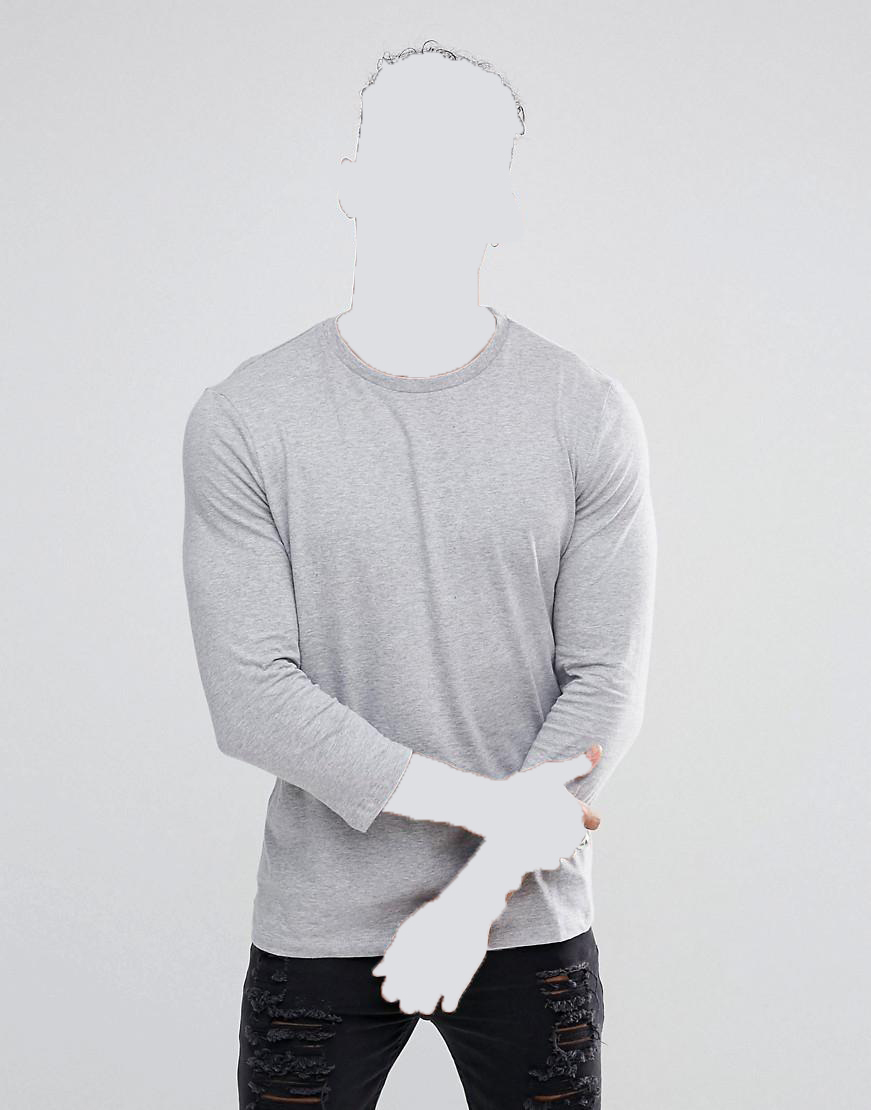teeshirt: (171, 313, 669, 968)
